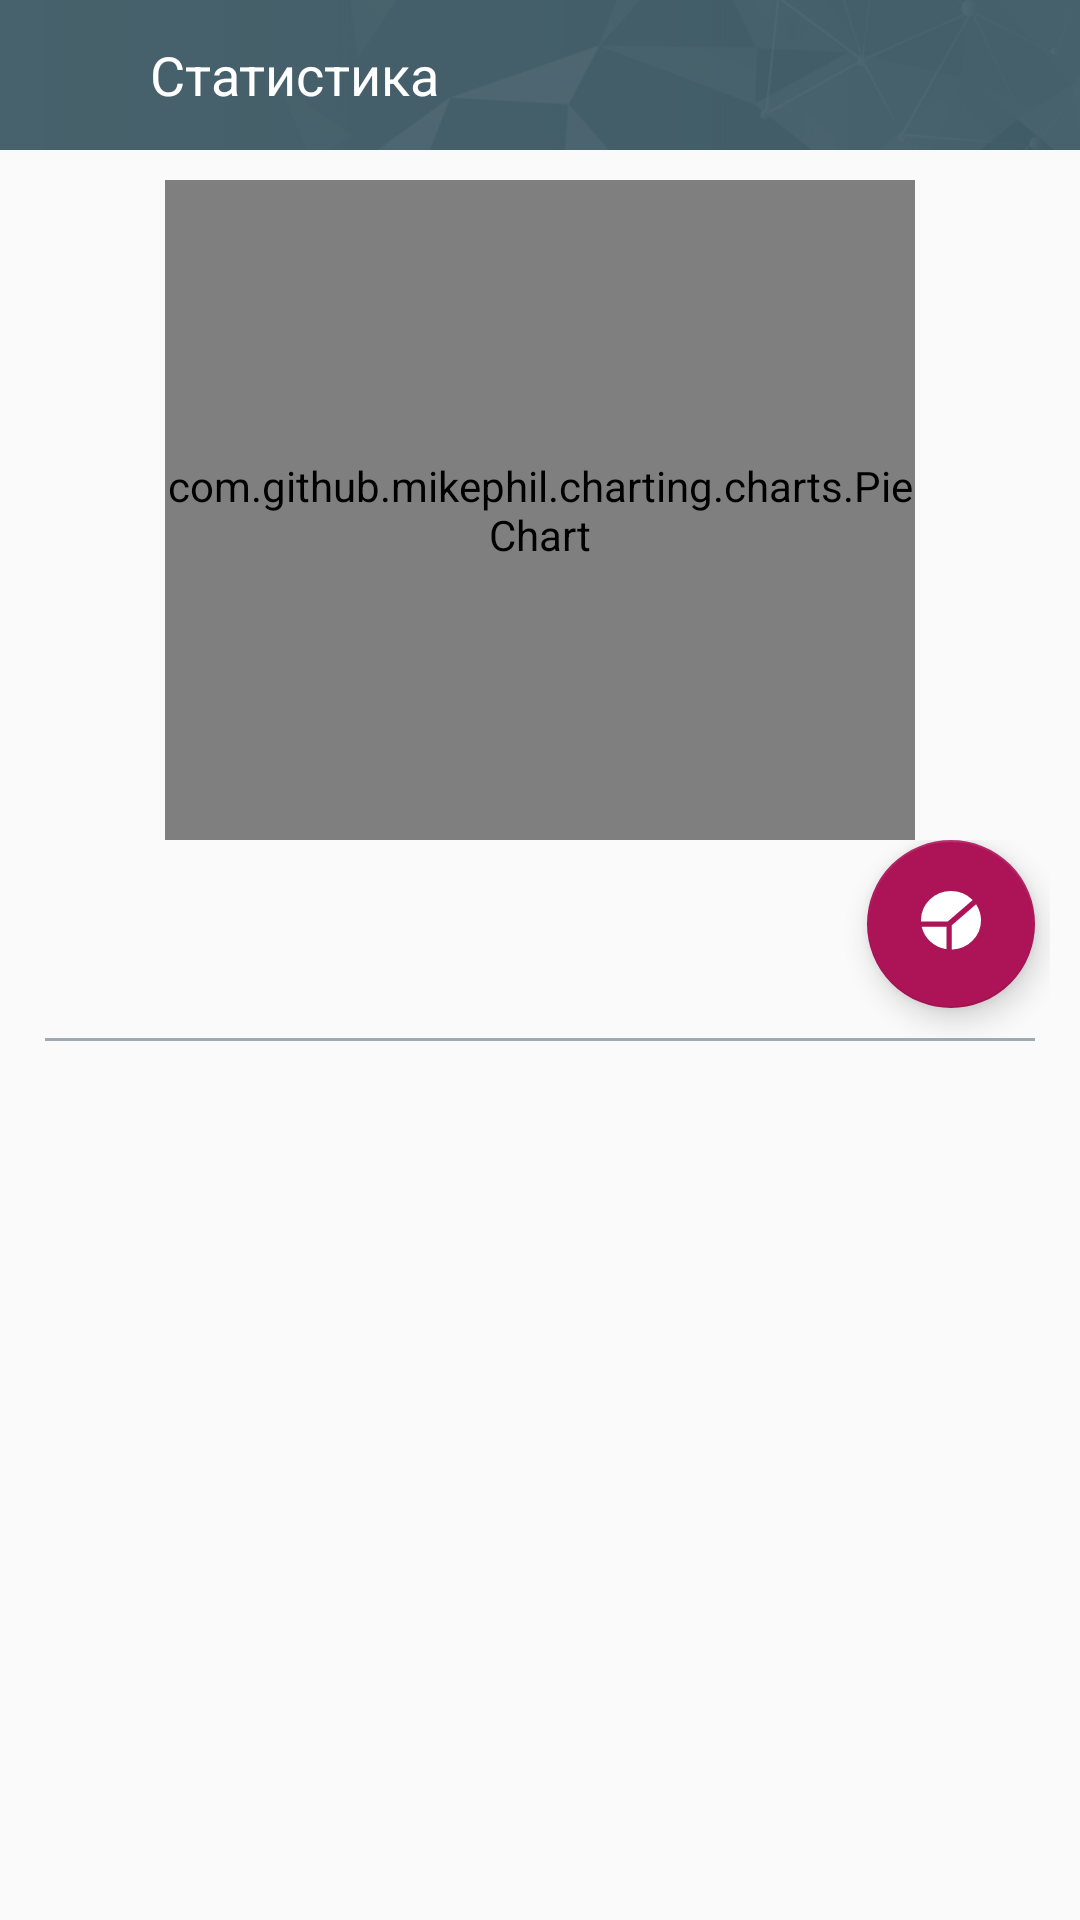

Where to tap for icons on this 1080 x 1920 app screen, as (x,y):
pie: (951,924)
